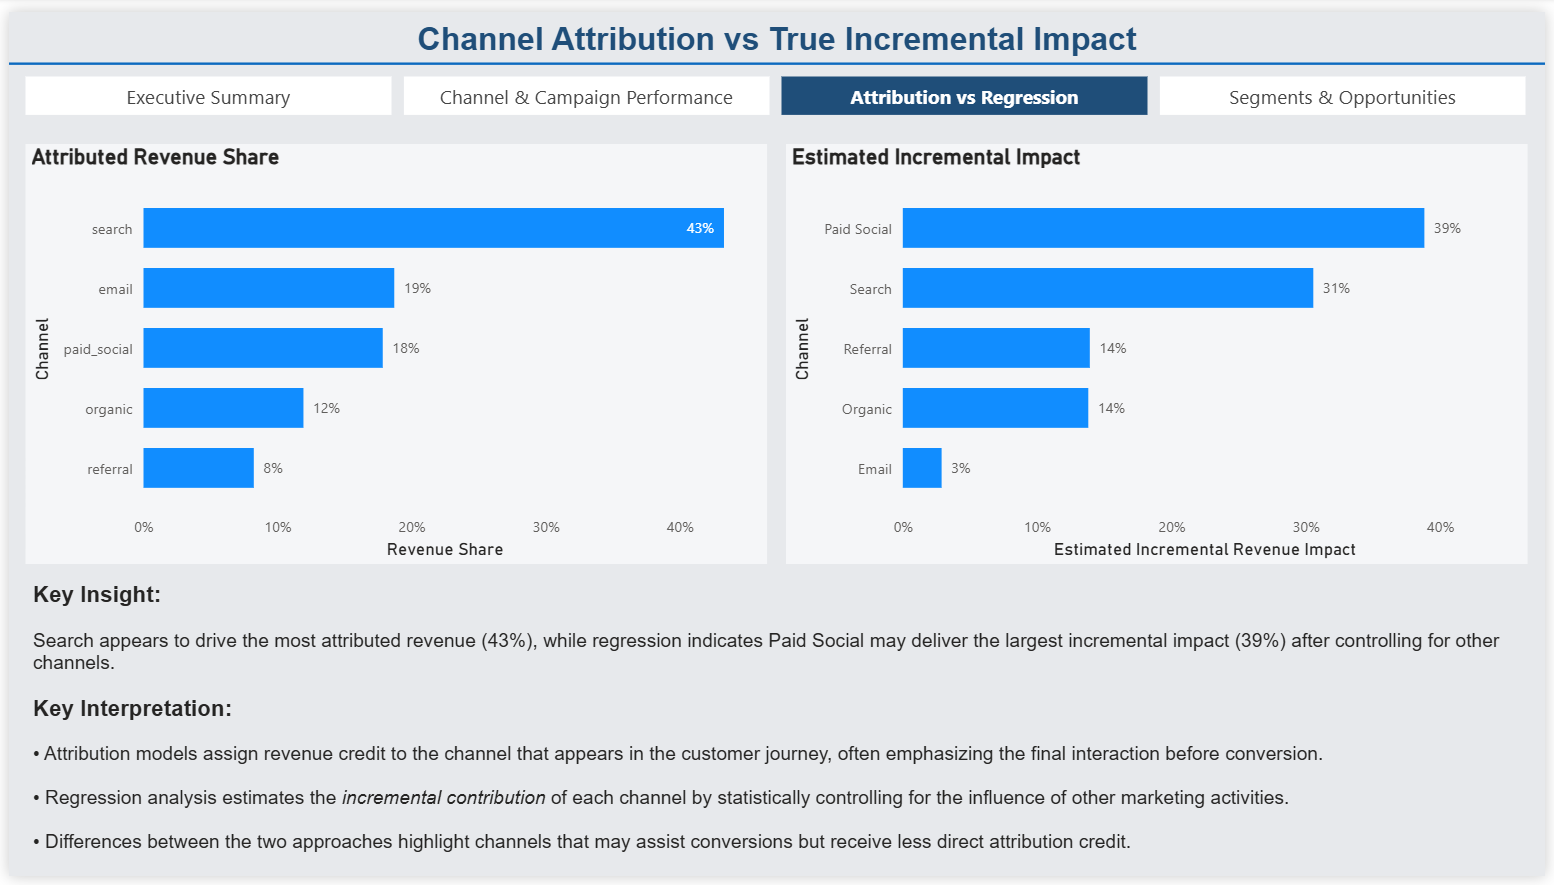

What the dashboard file says about the page in this screenshot:
{"tool":"powerbi","page":{"name":"Attribution vs Regression","canvas":[1280,720],"ordinal":2},"visuals":[{"type":"clusteredBarChart","title":"Attributed Revenue Share","fields":{"Y":["fact_channel_daily.Revenue Share"],"Category":["dim_channel.channel"]},"box":[13.7,110,617.8,350],"z":0},{"type":"clusteredBarChart","title":"Estimated Incremental Impact","fields":{"Category":["regression_channel_impact.channel"],"Y":["regression_channel_impact.Regression Impact Share"]},"box":[647,110,617.8,350],"z":1000},{"type":"textbox","box":[0,0,1280,44.4],"z":2000},{"type":"shape","box":[0,22.2,1280,41.1],"z":3000},{"type":"textbox","box":[0,464.4,1280,255.6],"z":4000},{"type":"pageNavigator","box":[13.3,53.3,1251.1,32.2],"z":5000}]}

Visuals, with their boxes in screenshot pixels (x1, y1, x2, y2), scaled from the page's 1280x720 canvas onto the 1554x885 screenshot:
"Attributed Revenue Share" clusteredBarChart: (17,135,767,565)
"Estimated Incremental Impact" clusteredBarChart: (785,135,1536,565)
textbox: (0,0,1553,55)
shape: (0,27,1553,78)
textbox: (0,571,1553,884)
pageNavigator: (16,66,1535,105)
